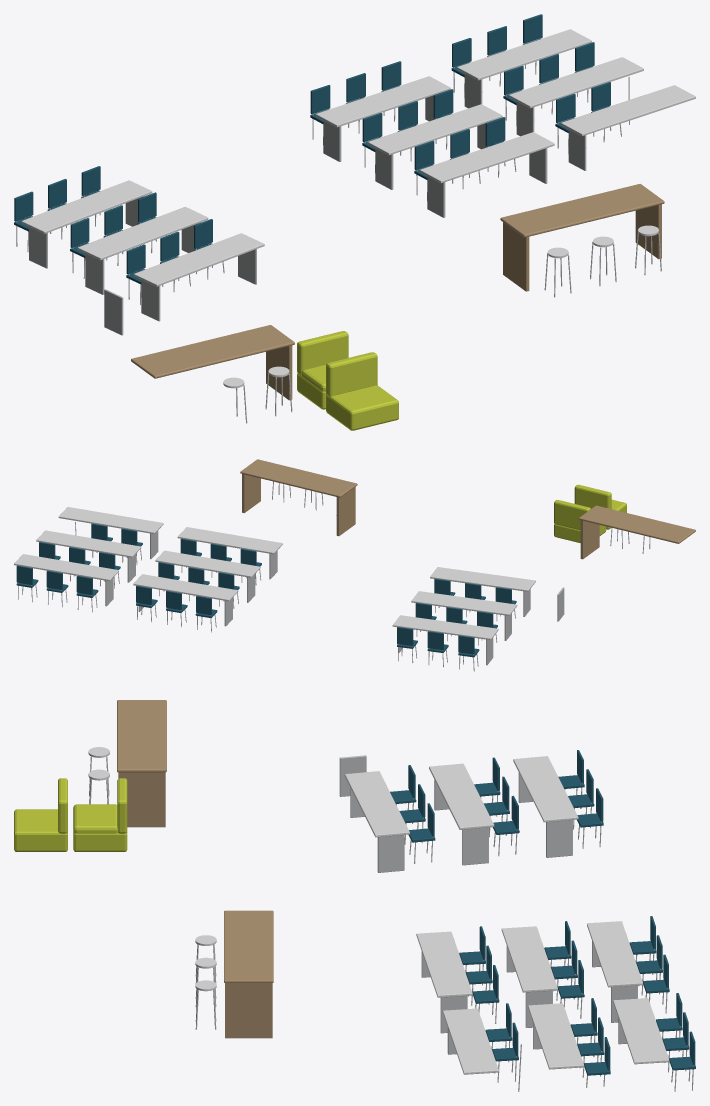
File: SM_L1_Furniture_Solid_ebf048cf55_0.fbx
The picture shows the model from 3 angles, top to bottom: view 1: azimuth 30°, elevation 25°; view 2: azimuth 150°, elevation 25°; view 3: azimuth 270°, elevation 25°; orthographic projection. The views are drawn at different scales.
Parts seen in each view (by area): view 1: SM_L1_Furniture_Solid_ebf048cf55_0; view 2: SM_L1_Furniture_Solid_ebf048cf55_0; view 3: SM_L1_Furniture_Solid_ebf048cf55_0.
Boxes of the visible parts, bbox=[...] form: SM_L1_Furniture_Solid_ebf048cf55_0: bbox=[14, 14, 695, 430]; SM_L1_Furniture_Solid_ebf048cf55_0: bbox=[14, 459, 695, 671]; SM_L1_Furniture_Solid_ebf048cf55_0: bbox=[14, 700, 695, 1091].
Bounding box in the file's own units: 14.16 × 11.49 × 1.09.
